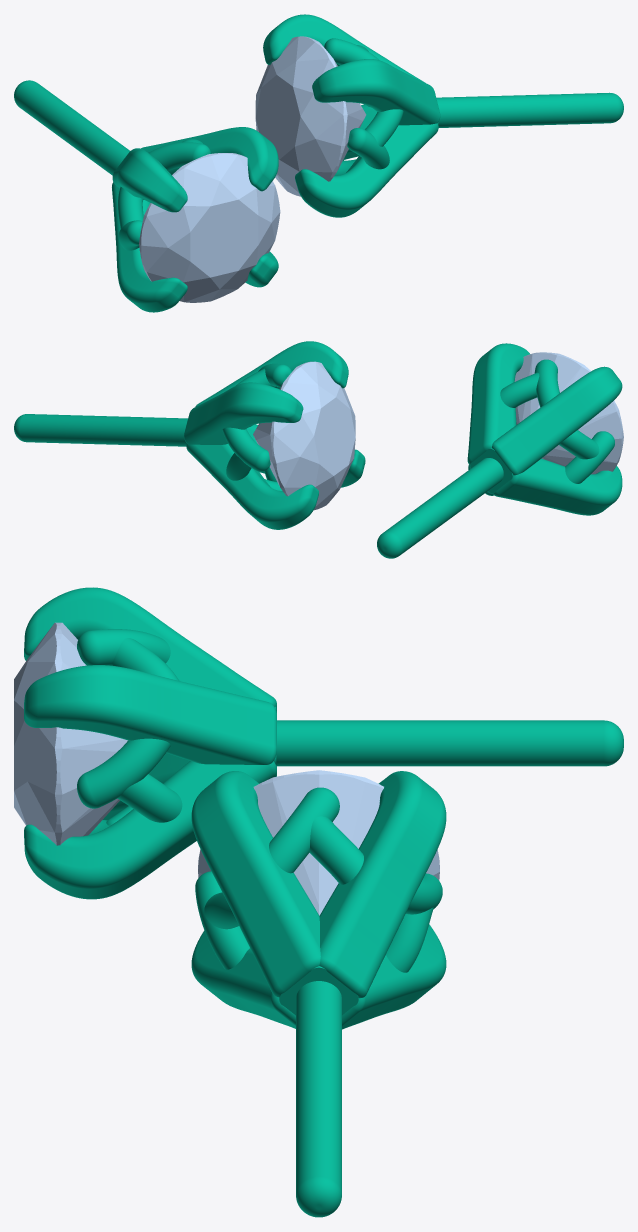
3 renders of one model, top to bottom at view 1: azimuth 30°, elevation 25°; view 2: azimuth 150°, elevation 25°; view 3: azimuth 270°, elevation 25°, orthographic. The views are drawn at different scales.
Parts seen in each view (by area): view 1: VEAR717.3dm, Diamond_Round (×2); view 2: VEAR717.3dm, Diamond_Round (×2); view 3: VEAR717.3dm, Diamond_Round (×2).
Part boxes in pixels (left/top/right/bottom): VEAR717.3dm: left=14, top=14, right=623, bottom=312; Diamond_Round (×2): left=139, top=36, right=366, bottom=302; VEAR717.3dm: left=14, top=341, right=622, bottom=558; Diamond_Round (×2): left=253, top=352, right=623, bottom=510; VEAR717.3dm: left=24, top=587, right=623, bottom=1217; Diamond_Round (×2): left=14, top=622, right=439, bottom=915.
Bounding box in the file's own units: 3.33 × 0.8532 × 2.04.
